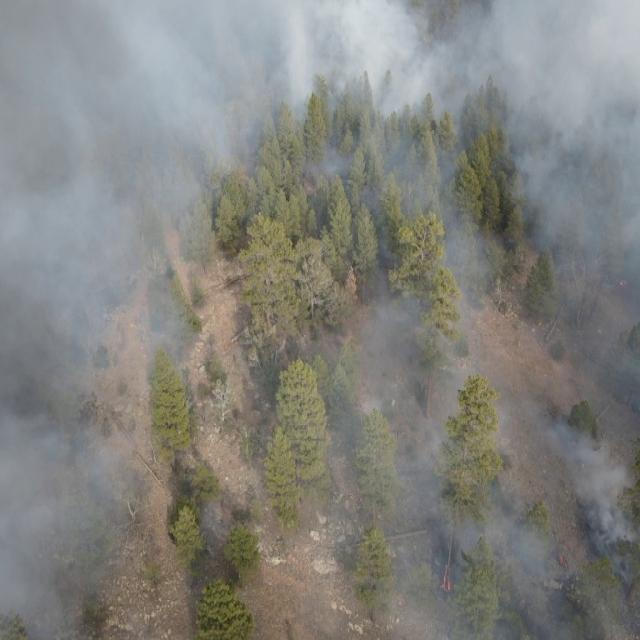fire: (431, 557, 461, 605), (610, 266, 634, 296), (554, 548, 573, 578)
smoke: (208, 369, 640, 640), (0, 0, 150, 640), (149, 0, 640, 184), (323, 186, 640, 370), (150, 184, 230, 365)
